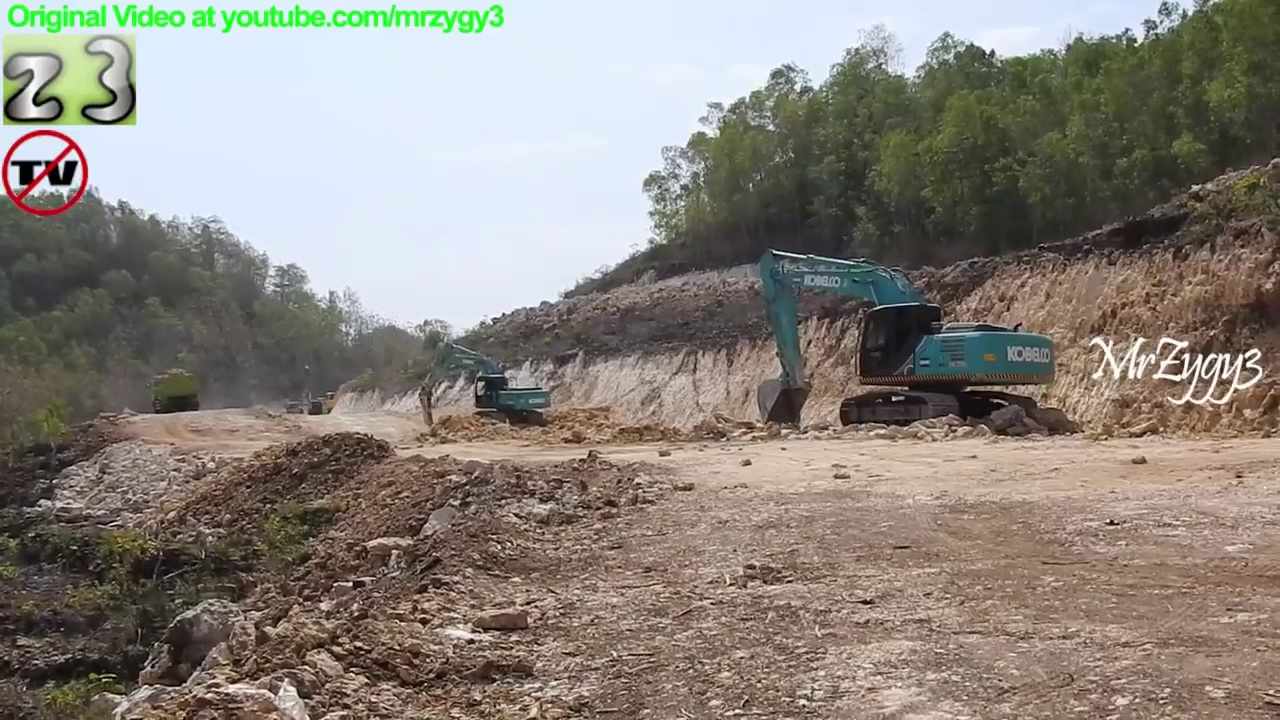excavator: (746, 240, 1064, 433), (317, 374, 364, 419), (296, 358, 327, 419)
excavator breaker: (413, 334, 555, 438)
truck: (143, 365, 205, 419)
